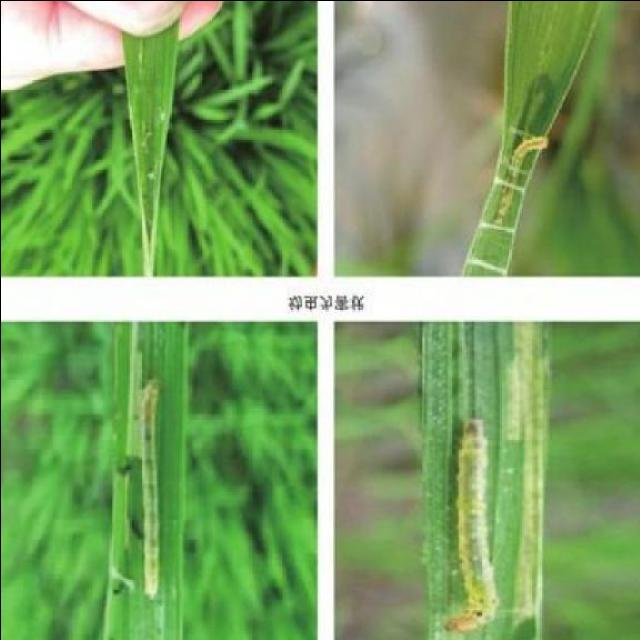leaf folder: (480, 0, 598, 231), (446, 419, 496, 632), (138, 378, 158, 596), (470, 230, 509, 272)
